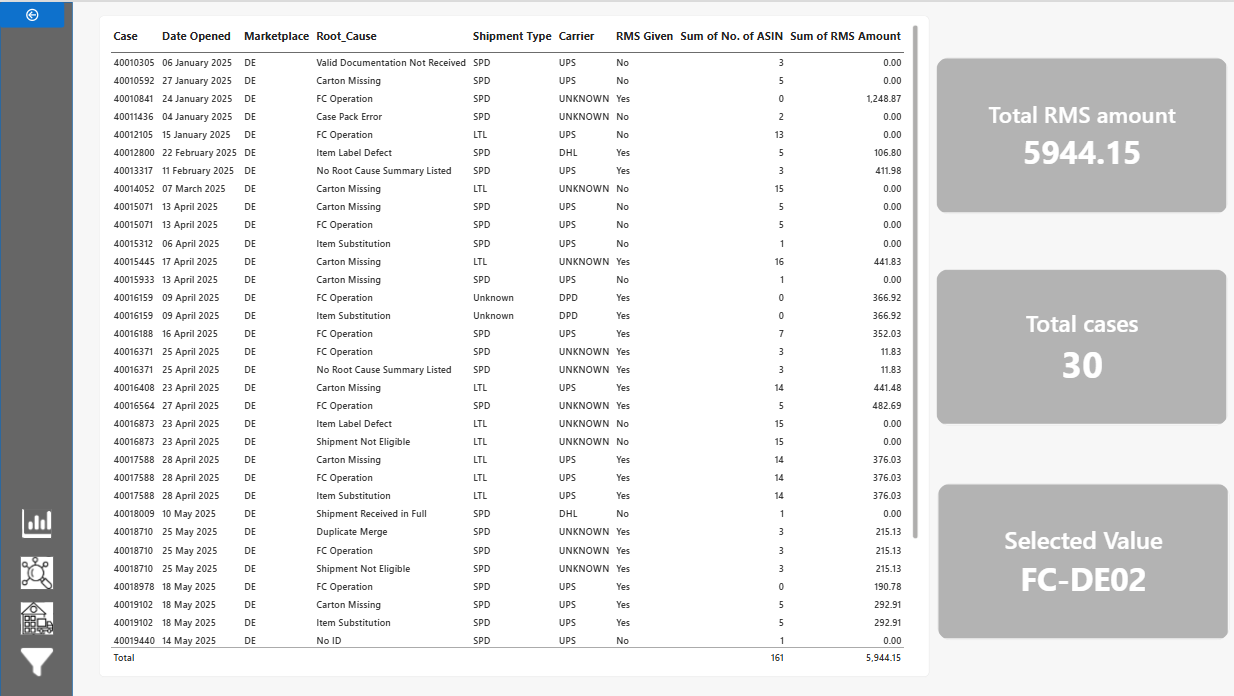

Layout of this report page (visuals, bound fields, positions):
{"tool":"powerbi","page":{"name":"Case Details","canvas":[1920,1080],"ordinal":3},"visuals":[{"type":"shape","box":[0,0,112.5,1080],"z":0},{"type":"cardVisual","fields":{"Data":["Measures_Table.Total RMS amount"]},"box":[1450,85,452.5,242.5],"z":0,"group":"g1"},{"type":"actionButton","box":[7.5,767.5,100,82.5],"z":0,"group":"g2"},{"type":"actionButton","box":[0,0,100,40],"z":1000},{"type":"cardVisual","fields":{"Data":["Measures_Table.Total cases"]},"box":[1450,412.5,452.5,242.5],"z":1000,"group":"g1"},{"type":"actionButton","box":[7.5,850,100,72.5],"z":1000,"group":"g2"},{"type":"tableEx","fields":{"Values":["Root_Cause_Bridge.Case","RMS_Clean.Date Opened","RMS_Clean.Marketplace","Root_Cause_Bridge.Root_Cause","RMS_Clean.Shipment Type","RMS_Clean.Carrier","RMS_Clean.RMS Given","Sum(RMS_Clean.No. of ASIN)","Sum(RMS_Clean.RMS Amount)"]},"box":[152.5,20,1287.5,1025],"z":2000},{"type":"cardVisual","fields":{"Data":["Measures_Table.Selected Value"]},"box":[1452.5,745,452.5,242.5],"z":2000,"group":"g1"},{"type":"actionButton","box":[7.5,922.5,100,65],"z":2000,"group":"g2"},{"type":"actionButton","box":[7.5,987.5,100,70],"z":3000,"group":"g2"},{"type":"group","id":"g1","title":"KPI Cards","box":[1450,85,455,902.5],"z":5000},{"type":"group","id":"g2","title":"Navigation buttons","box":[7.5,767.5,100,290],"z":6000}]}

Visuals, with their boxes on the page's 1920x1080 design canvas (x1, y1, x2, y2). These are canvas units, not pixel positions in the 1234x696 screenshot, which may show the page scaled, cropped or inside an application window:
shape: [0,0,112,1080]
cardVisual - Measures_Table.Total RMS amount: [1450,85,1902,328]
actionButton: [8,768,108,850]
actionButton: [0,0,100,40]
cardVisual - Measures_Table.Total cases: [1450,412,1902,655]
actionButton: [8,850,108,922]
tableEx - Root_Cause_Bridge.Case x RMS_Clean.Date Opened: [152,20,1440,1045]
cardVisual - Measures_Table.Selected Value: [1452,745,1905,988]
actionButton: [8,922,108,988]
actionButton: [8,988,108,1058]
"KPI Cards" group: [1450,85,1905,988]
"Navigation buttons" group: [8,768,108,1058]
